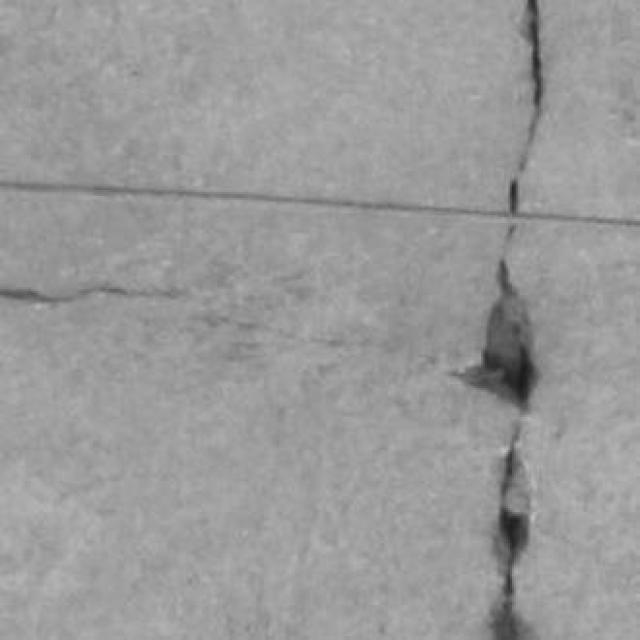crack: (0, 181, 513, 219), (452, 260, 537, 411), (509, 0, 544, 217), (497, 421, 531, 597), (518, 0, 544, 174), (0, 284, 184, 304), (491, 598, 535, 639)
